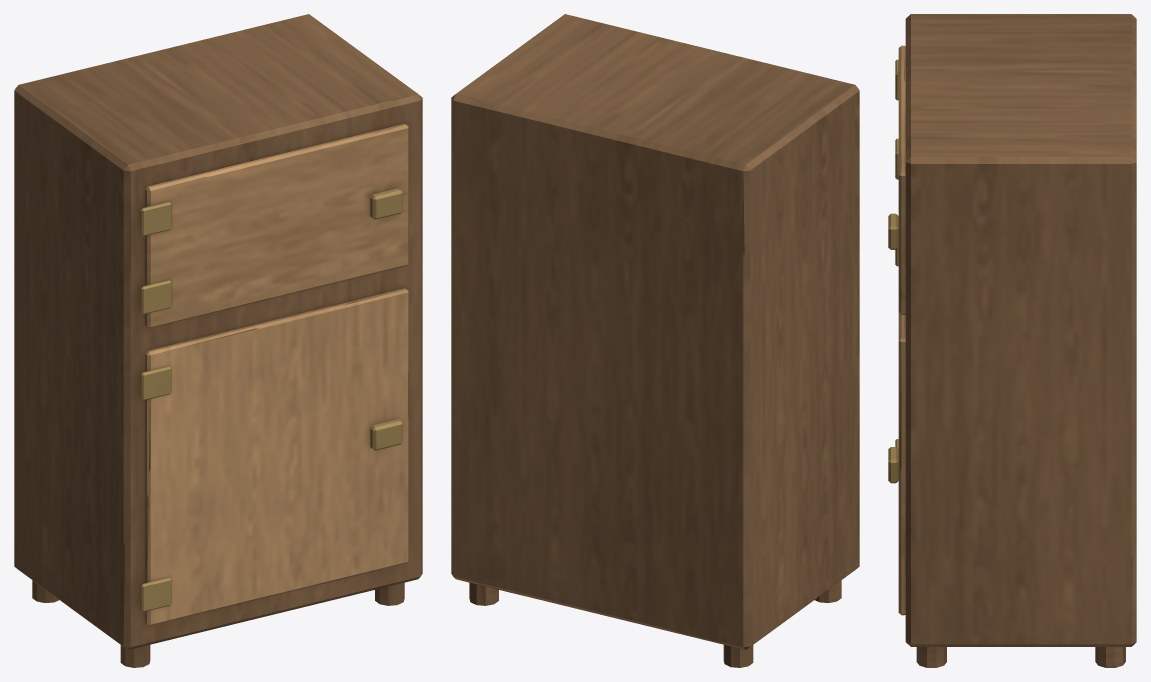
File: icebox.glb
3 renders of one model, left to right at view 1: azimuth 30°, elevation 25°; view 2: azimuth 150°, elevation 25°; view 3: azimuth 270°, elevation 25°, orthographic.
Parts seen in each view (by area): view 1: icebox; view 2: icebox; view 3: icebox.
Boxes of the visible parts, box(x1,y1,x2,y2) form: icebox: box(14, 14, 422, 667); icebox: box(451, 14, 859, 667); icebox: box(888, 14, 1136, 667).
Size of the model in its own units: 0.8 by 1.3 by 0.57.
1 material, 1 textured.
